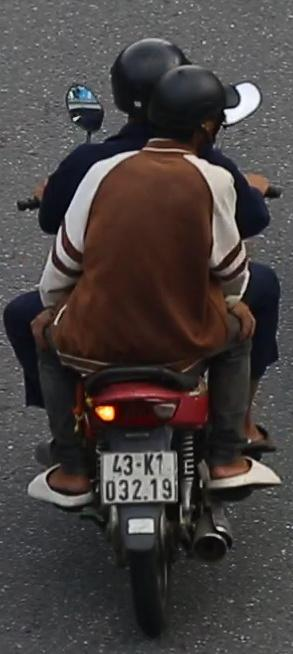LP: (96, 447, 181, 511)
helmet: (146, 64, 230, 161), (108, 33, 194, 126)
